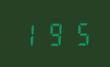five: (67, 19, 90, 46)
nine: (43, 20, 66, 46)
one: (18, 20, 41, 47)
